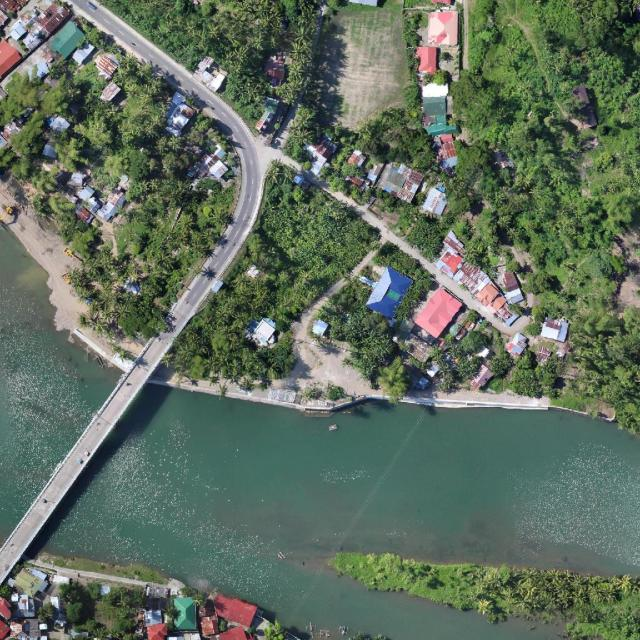building: (422, 229, 538, 331), (394, 284, 479, 372), (415, 79, 465, 173), (343, 152, 427, 205), (69, 172, 132, 226), (359, 263, 413, 320), (415, 10, 459, 76), (154, 91, 199, 137), (376, 160, 415, 200), (304, 134, 339, 168), (421, 184, 452, 217), (422, 185, 451, 218), (467, 362, 496, 394), (502, 331, 531, 361), (246, 319, 275, 346), (540, 316, 570, 342), (94, 55, 119, 81), (98, 81, 122, 106), (346, 148, 370, 172), (292, 173, 310, 187)
greenland: (271, 232, 525, 486), (148, 159, 385, 423), (350, 99, 444, 173), (60, 582, 145, 640)
wetland: (0, 229, 118, 538)
